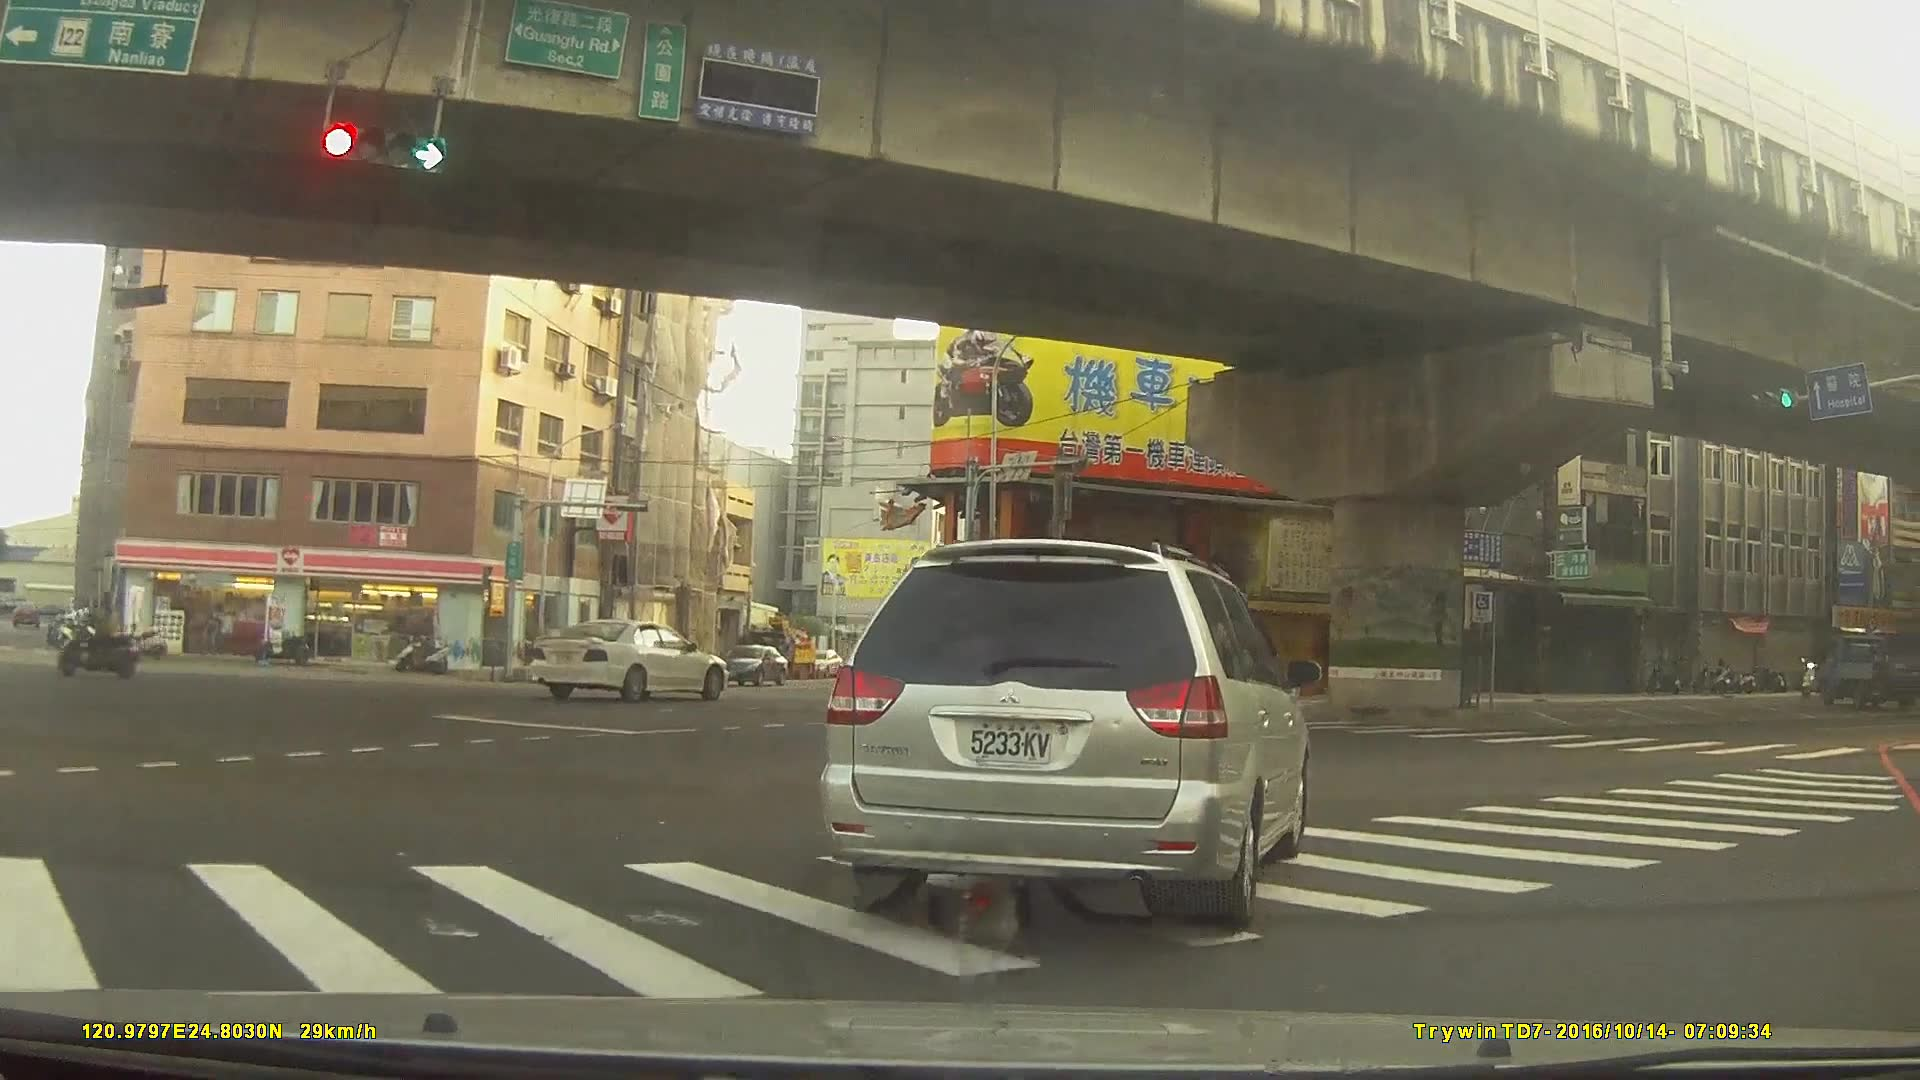rider: (54, 593, 130, 683)
vehicle: (815, 536, 1307, 936), (525, 619, 727, 708), (1812, 629, 1920, 709), (716, 643, 790, 685), (805, 648, 845, 679), (11, 601, 41, 628)
